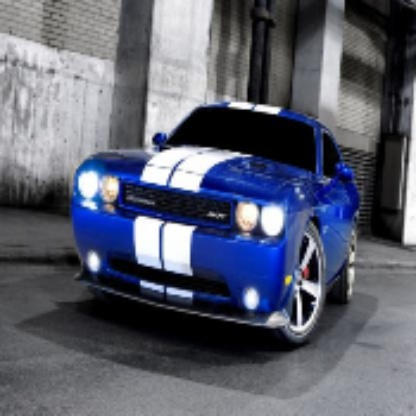Vehicle: (73, 101, 362, 348)
